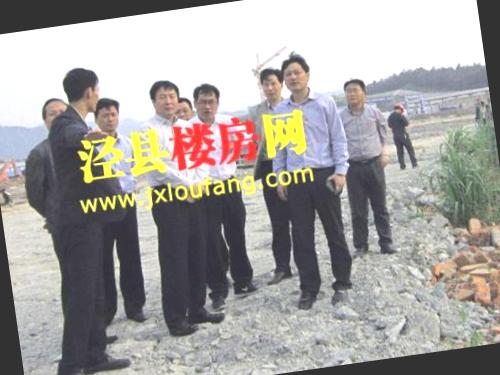no_helmet: (59, 59, 106, 118), (146, 75, 186, 123), (188, 77, 227, 124), (278, 50, 315, 96), (92, 92, 128, 137), (253, 60, 289, 104), (36, 94, 72, 134), (338, 72, 372, 112), (172, 94, 196, 128)
